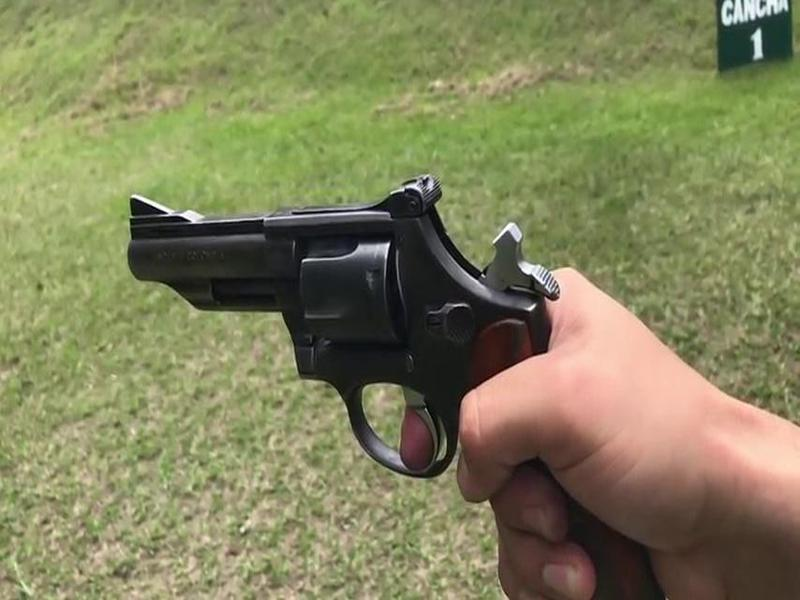Revolver: (127, 167, 587, 492)
